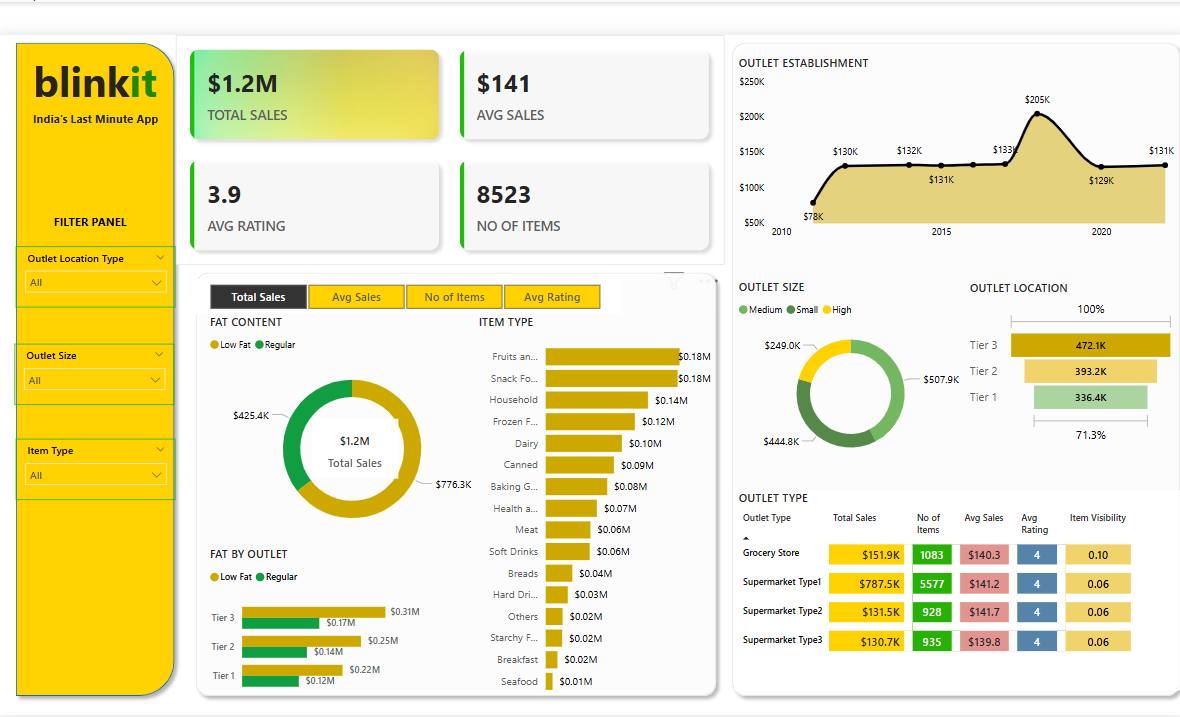

What the dashboard file says about the page in this screenshot:
{"tool":"powerbi","page":{"name":"Page 1","canvas":[1400,800],"ordinal":0},"visuals":[{"type":"shape","box":[13.4,0,204.5,786.7],"z":0},{"type":"textbox","box":[22.4,83.6,188.1,31.4],"z":1000},{"type":"textbox","box":[20.9,16.4,189.6,83.6],"z":2000},{"type":"cardVisual","fields":{"Data":["BlinkIT Grocery Data xlsx - BlinkIT Grocery Data.Total Sales","BlinkIT Grocery Data xlsx - BlinkIT Grocery Data.Avg Sales","BlinkIT Grocery Data xlsx - BlinkIT Grocery Data.Avg Rating","BlinkIT Grocery Data xlsx - BlinkIT Grocery Data.No of Items"]},"box":[210.5,0,644.9,270.2],"z":3000},{"type":"shape","box":[225.2,270.8,630,516.1],"z":4000},{"type":"donutChart","title":"FAT CONTENT","fields":{"Y":["BlinkIT Grocery Data xlsx - BlinkIT Grocery Data.Total Sales"],"Category":["BlinkIT Grocery Data xlsx - BlinkIT Grocery Data.Item Fat Content"]},"box":[246.3,328.4,344.9,273.2],"z":5000},{"type":"slicer","fields":{"Values":["Metrics.Metrics"]},"box":[225.4,286.6,509.1,41.8],"z":6000},{"type":"cardVisual","fields":{"Data":["BlinkIT Grocery Data xlsx - BlinkIT Grocery Data.Total Sales"]},"box":[370.2,450.8,101.5,70.2],"z":7000},{"type":"clusteredBarChart","title":"FAT BY OUTLET","fields":{"Y":["BlinkIT Grocery Data xlsx - BlinkIT Grocery Data.Total Sales"],"Category":["BlinkIT Grocery Data xlsx - BlinkIT Grocery Data.Outlet Location Type"],"Series":["BlinkIT Grocery Data xlsx - BlinkIT Grocery Data.Item Fat Content"]},"box":[246.3,601.6,256.8,185.1],"z":8000},{"type":"barChart","title":"ITEM TYPE","fields":{"Y":["BlinkIT Grocery Data xlsx - BlinkIT Grocery Data.Total Sales"],"Category":["BlinkIT Grocery Data xlsx - BlinkIT Grocery Data.Item Type"]},"box":[561.3,328.4,283.6,458.3],"z":9000},{"type":"shape","box":[855.4,0,544.9,786.7],"z":10000},{"type":"lineChart","title":"OUTLET ESTABLISHMENT","fields":{"Category":["BlinkIT Grocery Data xlsx - BlinkIT Grocery Data.Outlet Establishment Year"],"Y":["BlinkIT Grocery Data xlsx - BlinkIT Grocery Data.Total Sales"]},"box":[867.4,23.9,524,225.4],"z":11000},{"type":"donutChart","title":"OUTLET SIZE","fields":{"Y":["BlinkIT Grocery Data xlsx - BlinkIT Grocery Data.Total Sales"],"Category":["BlinkIT Grocery Data xlsx - BlinkIT Grocery Data.Outlet Size"]},"box":[867.8,286.8,273.6,225],"z":12000},{"type":"funnel","title":"OUTLET LOCATION","fields":{"Category":["BlinkIT Grocery Data xlsx - BlinkIT Grocery Data.Outlet Location Type"],"Y":["Sum(BlinkIT Grocery Data xlsx - BlinkIT Grocery Data.Sales)"]},"box":[1140.4,288.1,251,197.5],"z":13000},{"type":"pivotTable","title":"OUTLET TYPE","fields":{"Rows":["BlinkIT Grocery Data xlsx - BlinkIT Grocery Data.Outlet Type"],"Values":["BlinkIT Grocery Data xlsx - BlinkIT Grocery Data.Total Sales","BlinkIT Grocery Data xlsx - BlinkIT Grocery Data.No of Items","BlinkIT Grocery Data xlsx - BlinkIT Grocery Data.Avg Sales","BlinkIT Grocery Data xlsx - BlinkIT Grocery Data.Avg Rating","Avg(BlinkIT Grocery Data xlsx - BlinkIT Grocery Data.Item Visibility)"]},"box":[867.3,534.9,524.1,235.9],"z":14000},{"type":"slicer","fields":{"Values":["BlinkIT Grocery Data xlsx - BlinkIT Grocery Data.Outlet Location Type"]},"box":[22.1,248.6,188.3,72.1],"z":15000},{"type":"slicer","fields":{"Values":["BlinkIT Grocery Data xlsx - BlinkIT Grocery Data.Outlet Size"]},"box":[20.6,363.3,188.3,72.1],"z":16000},{"type":"slicer","fields":{"Values":["BlinkIT Grocery Data xlsx - BlinkIT Grocery Data.Item Type"]},"box":[22.1,475.1,188.3,72.1],"z":17000},{"type":"textbox","box":[61.8,205.9,110.3,42.7],"z":18000}]}

Visuals, with their boxes on the page's 1400x800 design canvas (x1, y1, x2, y2). These are canvas units, not pixel positions in the 1180x717 screenshot, which may show the page scaled, cropped or inside an application window:
shape: 13,0,218,787
textbox: 22,84,210,115
textbox: 21,16,210,100
cardVisual - BlinkIT Grocery Data xlsx - BlinkIT Grocery Data.Total Sales x BlinkIT Grocery Data xlsx - BlinkIT Grocery Data.Avg Sales: 210,0,855,270
shape: 225,271,855,787
"FAT CONTENT" donutChart: 246,328,591,602
slicer - Metrics.Metrics: 225,287,734,328
cardVisual - BlinkIT Grocery Data xlsx - BlinkIT Grocery Data.Total Sales: 370,451,472,521
"FAT BY OUTLET" clusteredBarChart: 246,602,503,787
"ITEM TYPE" barChart: 561,328,845,787
shape: 855,0,1400,787
"OUTLET ESTABLISHMENT" lineChart: 867,24,1391,249
"OUTLET SIZE" donutChart: 868,287,1141,512
"OUTLET LOCATION" funnel: 1140,288,1391,486
"OUTLET TYPE" pivotTable: 867,535,1391,771
slicer - BlinkIT Grocery Data xlsx - BlinkIT Grocery Data.Outlet Location Type: 22,249,210,321
slicer - BlinkIT Grocery Data xlsx - BlinkIT Grocery Data.Outlet Size: 21,363,209,435
slicer - BlinkIT Grocery Data xlsx - BlinkIT Grocery Data.Item Type: 22,475,210,547
textbox: 62,206,172,249
